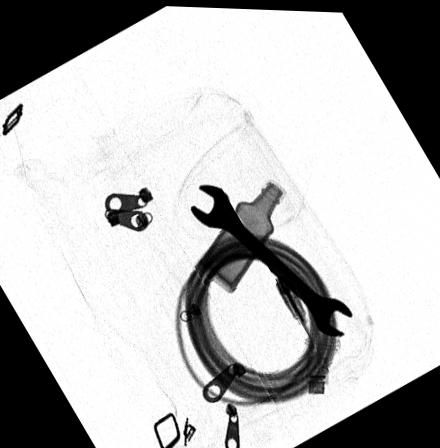Wrench: (186, 181, 353, 337)
